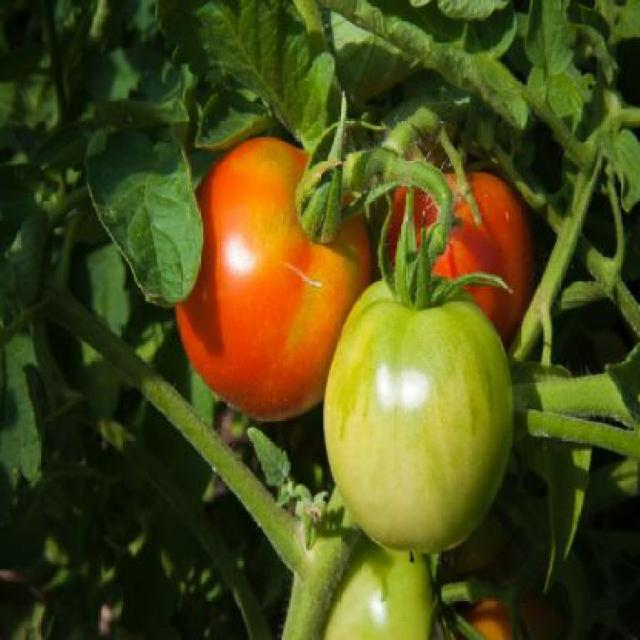Tomato: (182, 132, 381, 430), (321, 268, 507, 557), (378, 164, 548, 333), (438, 517, 562, 640), (322, 546, 447, 640)
